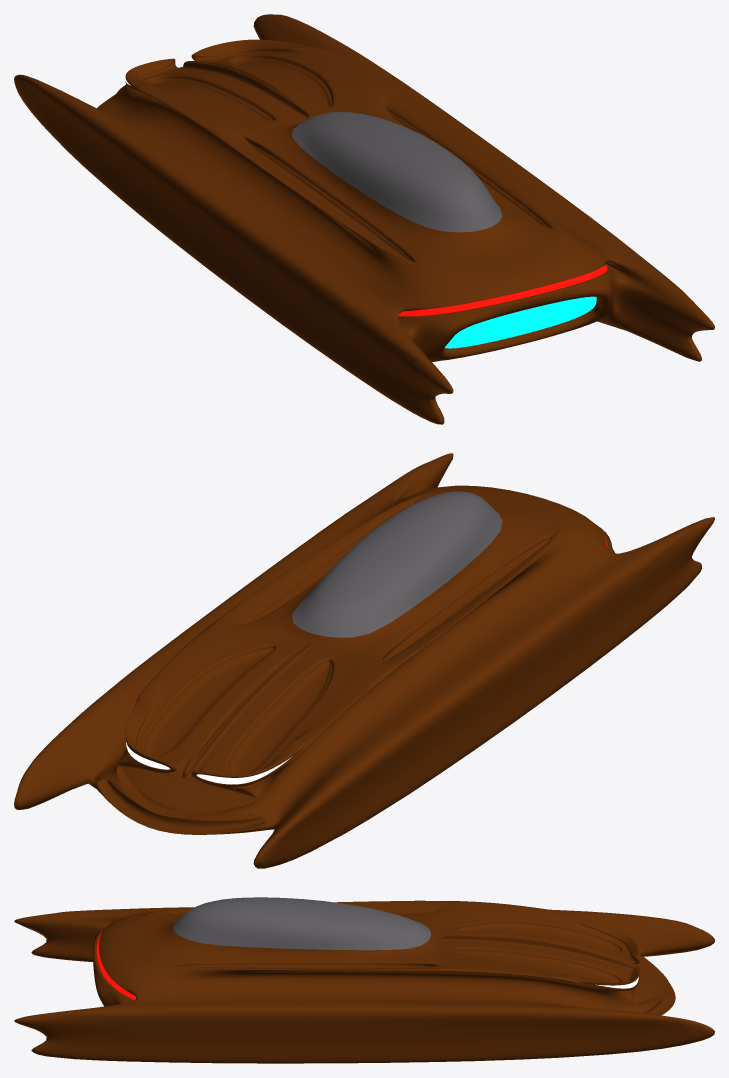
The model's file is futuristic-sci-fi-car-525bb5.glb.
The picture shows the model from 3 angles, top to bottom: view 1: azimuth 30°, elevation 25°; view 2: azimuth 150°, elevation 25°; view 3: azimuth 270°, elevation 25°; orthographic projection. The views are drawn at different scales.
Parts seen in each view (by area): view 1: Futuristic Car_Tank_0, Futuristic Car_Window_0, Futuristic Car_Engine_0, Futuristic Car_Backlights_0; view 2: Futuristic Car_Tank_0, Futuristic Car_Window_0, Futuristic Car_Lights_0; view 3: Futuristic Car_Tank_0, Futuristic Car_Window_0, Futuristic Car_Backlights_0.
Part boxes in pixels (bbox=[...]): Futuristic Car_Tank_0: bbox=[14, 14, 714, 424]; Futuristic Car_Window_0: bbox=[292, 111, 502, 232]; Futuristic Car_Engine_0: bbox=[444, 296, 596, 348]; Futuristic Car_Backlights_0: bbox=[398, 264, 607, 316]; Futuristic Car_Tank_0: bbox=[14, 453, 714, 868]; Futuristic Car_Window_0: bbox=[292, 491, 502, 637]; Futuristic Car_Lights_0: bbox=[126, 742, 291, 784]; Futuristic Car_Tank_0: bbox=[14, 900, 714, 1063]; Futuristic Car_Window_0: bbox=[172, 897, 431, 950]; Futuristic Car_Backlights_0: bbox=[96, 933, 135, 999].
Bounding box in the file's own units: 1.71 × 0.8238 × 4.8.
Materials: 5 (5 with a texture image).
